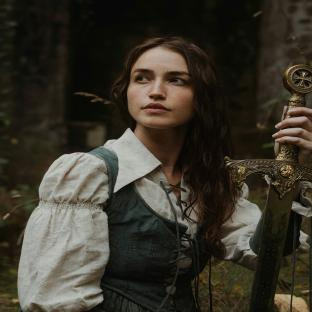Human: (18, 37, 261, 312), (273, 108, 312, 164)
